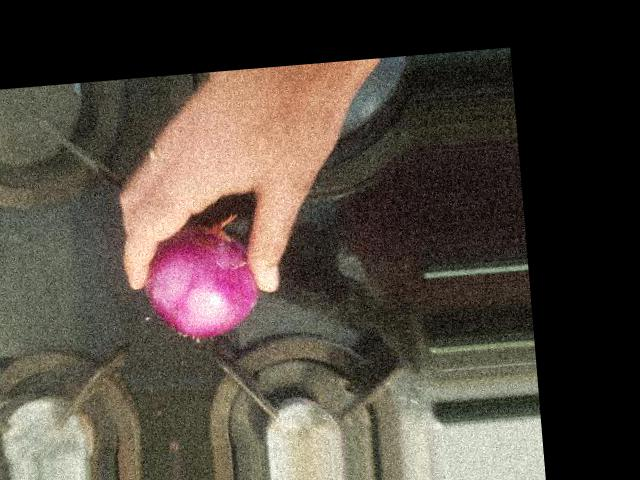onion: (135, 220, 268, 341)
